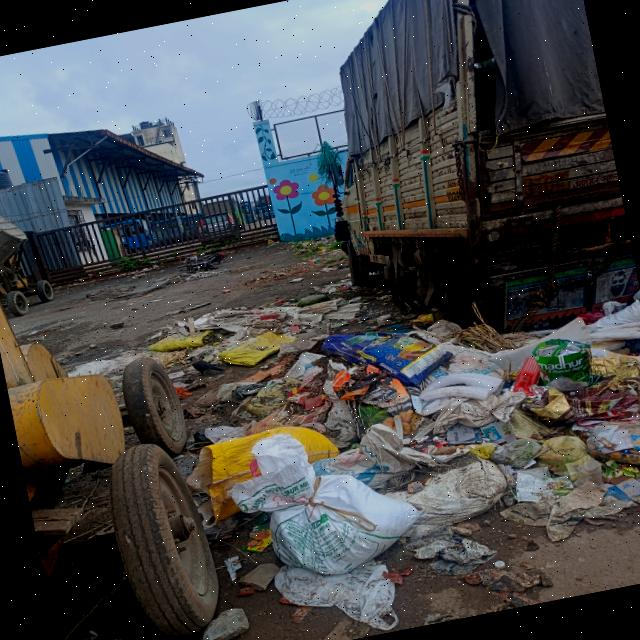garbage: (137, 274, 480, 626), (438, 285, 640, 552)
